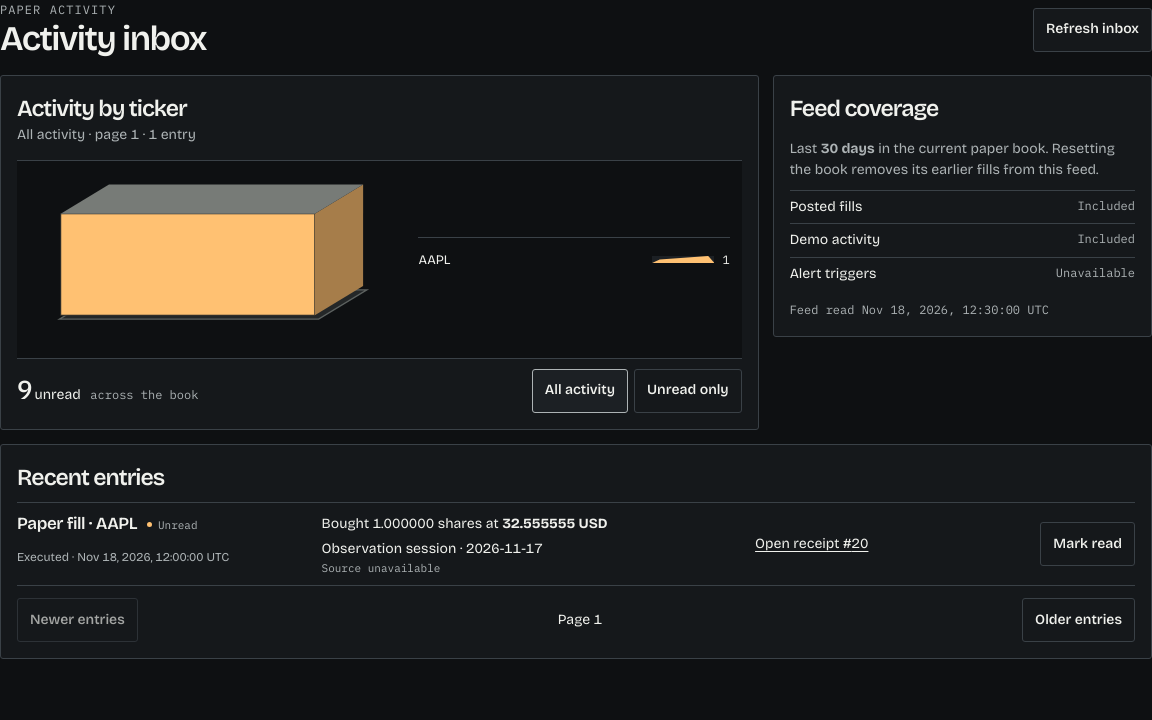
Test: retries a failed read marker and recounts the active unread filter
Expected: the heading "Paper fill · AAPL" is shown, x1=17 y1=512 x2=137 y2=536
Click the button "Unread only". click: click(688, 390)
box: x1=634 y1=368 x2=742 y2=412
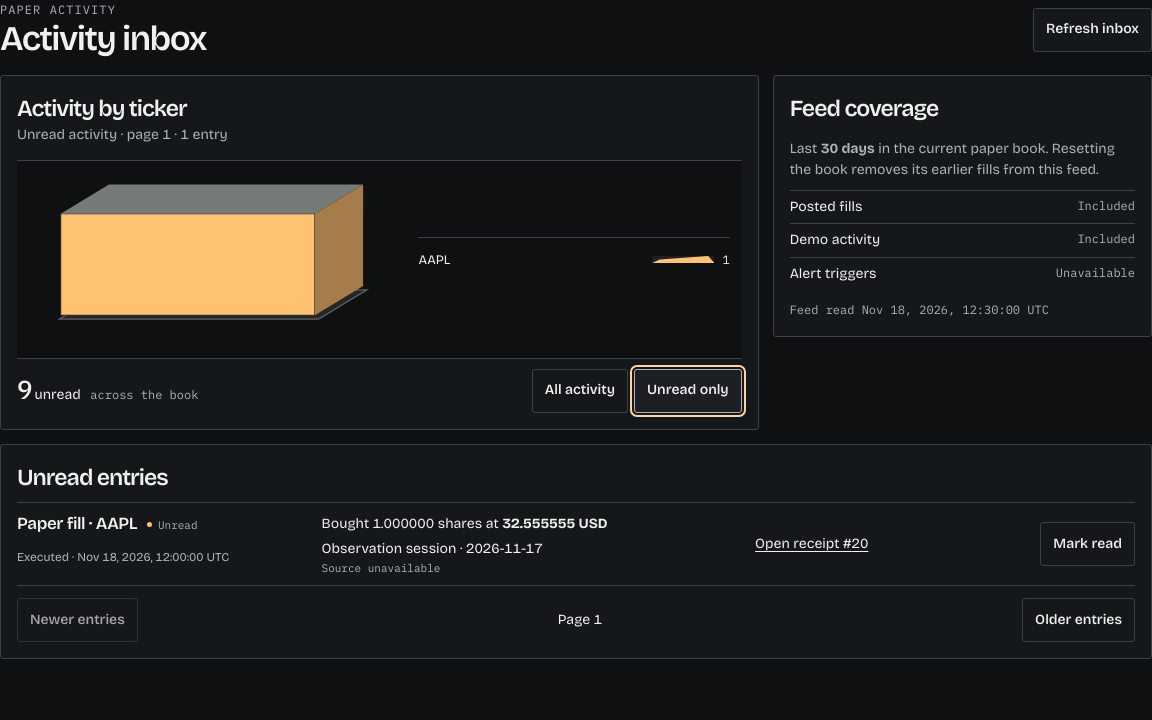
Expected: the heading "Paper fill · AAPL" is shown, x1=17 y1=512 x2=137 y2=536
Click the button with test id "inbox-mark-read". click: click(1088, 544)
box: x1=1040 y1=522 x2=1135 y2=566
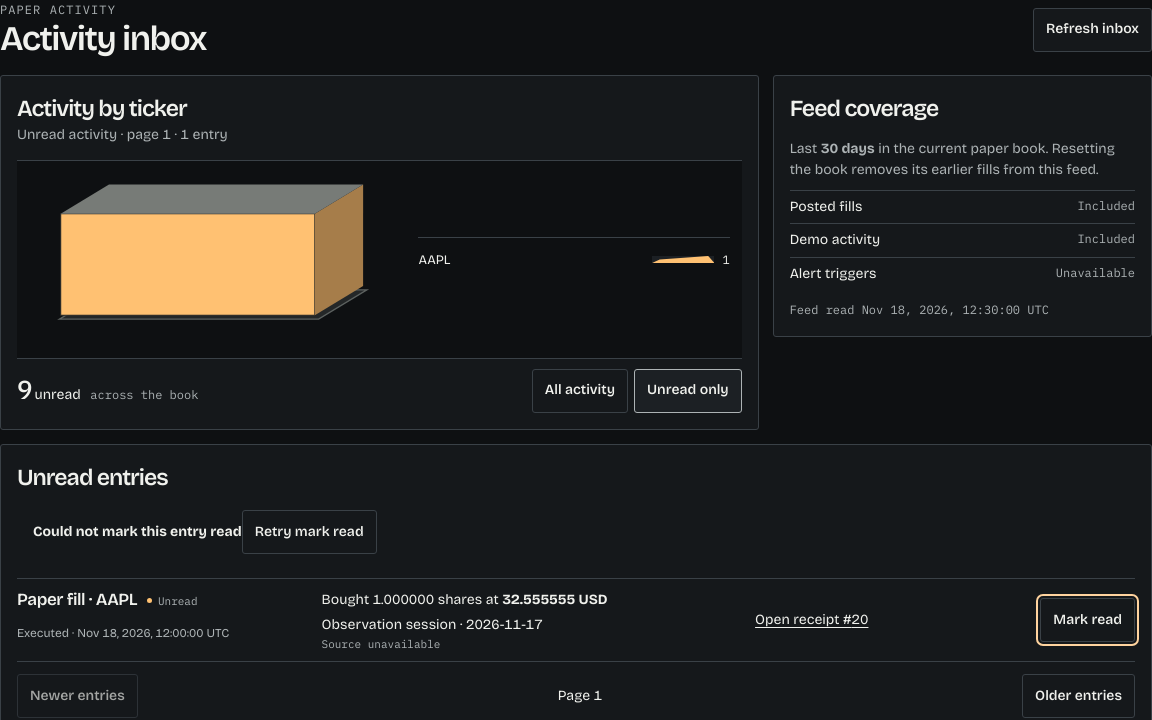
Click the button "Retry mark read". click: click(309, 532)
box: x1=242 y1=510 x2=377 y2=554
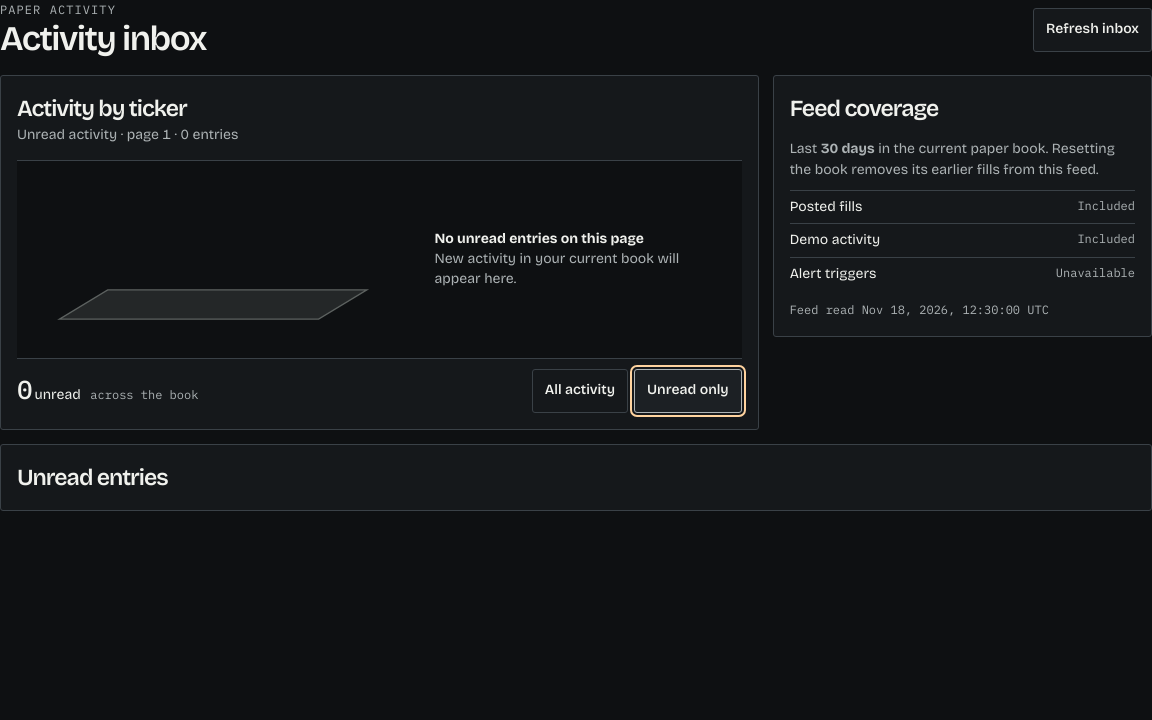
Now the text "No unread entries on this page" is shown, box x1=434 y1=230 x2=644 y2=247
Now the element with test id "inbox-unread-count" shows "0 unread", box x1=17 y1=376 x2=198 y2=405
